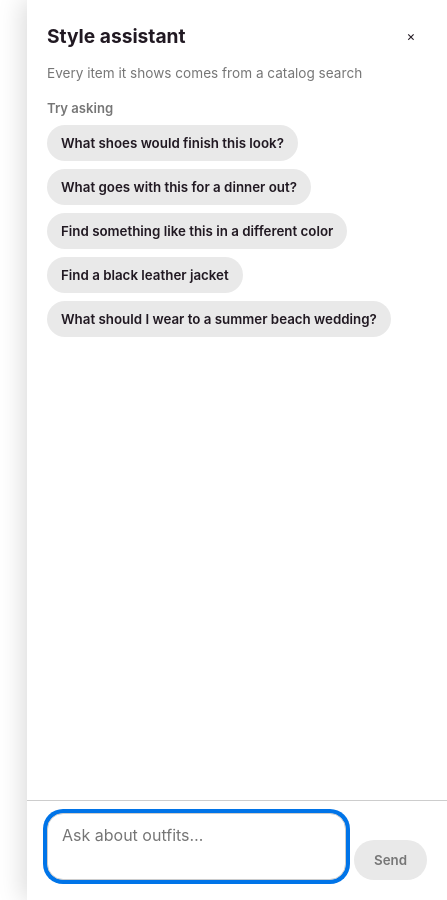
Test case: AssistantPanel › shows the model error message
The width and height of the screenshot is (447, 900).
Click the button "What shoes would finish this look?".
click(172, 143)  # box [47,125,298,161]
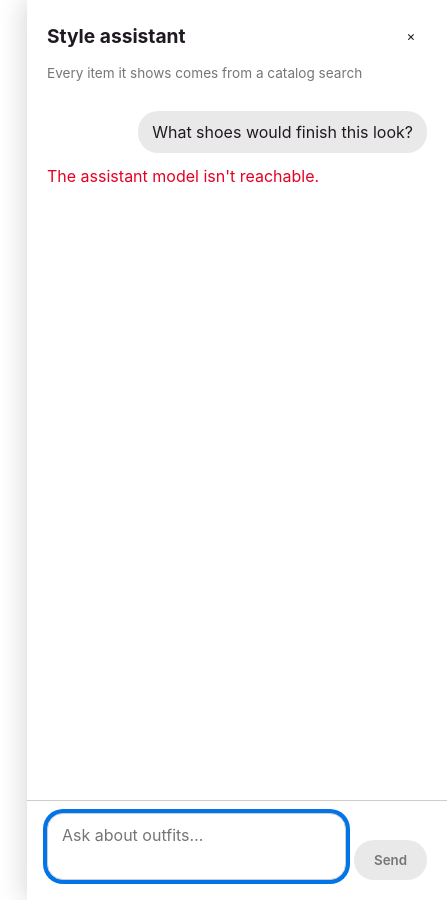
expect the text "The assistant model isn't reachable." is shown: met, box [47,166,319,186]
